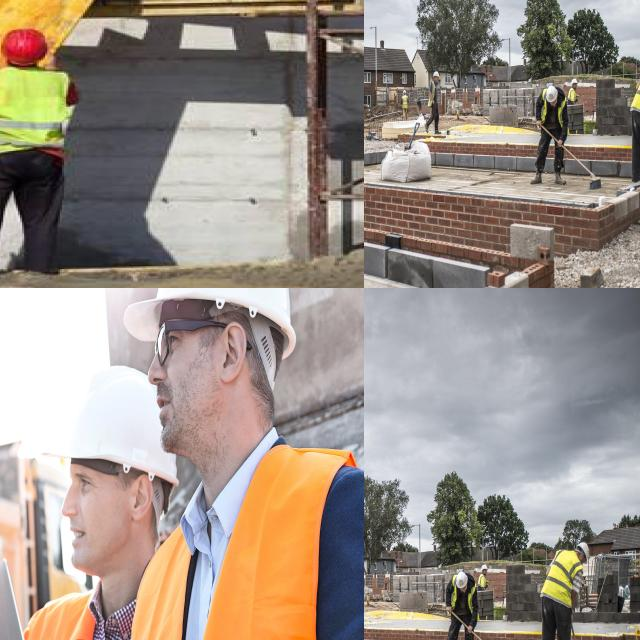No_Ear-Protection: (220, 321, 248, 388), (129, 470, 154, 528)
No_Glasses: (58, 462, 112, 503)
face_nomask: (142, 325, 227, 450), (56, 463, 130, 570)
glasses: (147, 318, 178, 364)
head_helmet: (46, 348, 183, 492), (132, 288, 307, 338), (3, 27, 52, 66), (544, 86, 558, 103), (454, 572, 468, 589), (578, 542, 592, 557), (431, 68, 443, 80), (400, 87, 407, 95), (572, 77, 579, 83), (482, 563, 489, 569)
person: (109, 288, 363, 640), (0, 288, 155, 640), (0, 30, 68, 274), (539, 540, 582, 640), (538, 87, 570, 185), (447, 573, 479, 640), (629, 54, 640, 182), (427, 70, 445, 132), (397, 85, 412, 115)
shoes: (553, 169, 567, 187), (529, 170, 544, 186), (424, 121, 430, 134), (434, 128, 442, 136)
vest: (146, 489, 351, 640), (0, 71, 72, 152), (552, 551, 578, 603), (537, 100, 566, 122), (447, 586, 476, 608), (431, 82, 440, 104), (479, 574, 488, 588), (569, 89, 578, 102), (404, 94, 408, 105)
